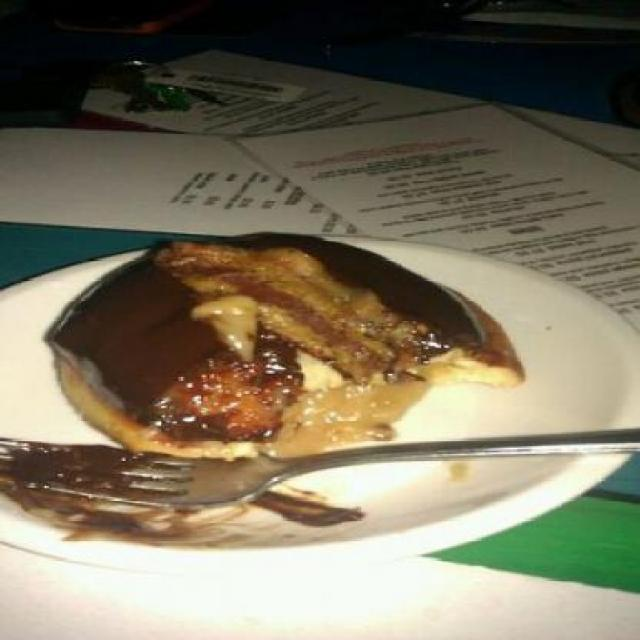Donuts: (22, 211, 562, 518)
